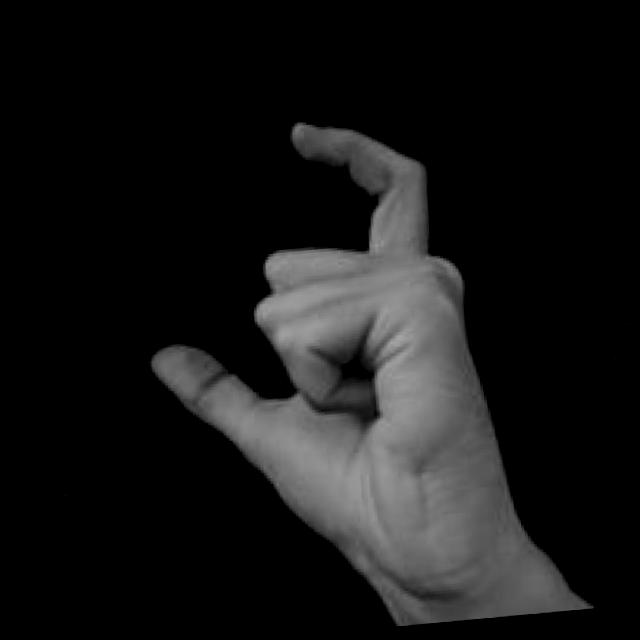C: (125, 98, 543, 630)
